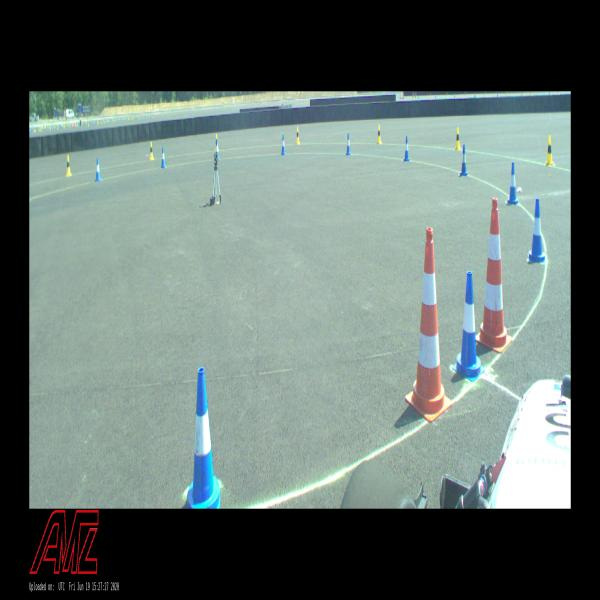blue_cone: (188, 368, 221, 508), (453, 271, 484, 381), (528, 198, 546, 264), (507, 162, 518, 203), (460, 145, 468, 177), (403, 136, 410, 161), (95, 157, 101, 181), (346, 133, 351, 156), (161, 146, 166, 168), (281, 134, 286, 156), (215, 140, 219, 160)
large_orange_cone: (405, 228, 453, 421), (475, 198, 512, 353)
yellow_cone: (544, 136, 554, 166), (66, 155, 72, 176), (455, 128, 461, 149), (376, 125, 382, 144), (150, 142, 154, 160), (296, 127, 300, 144)
